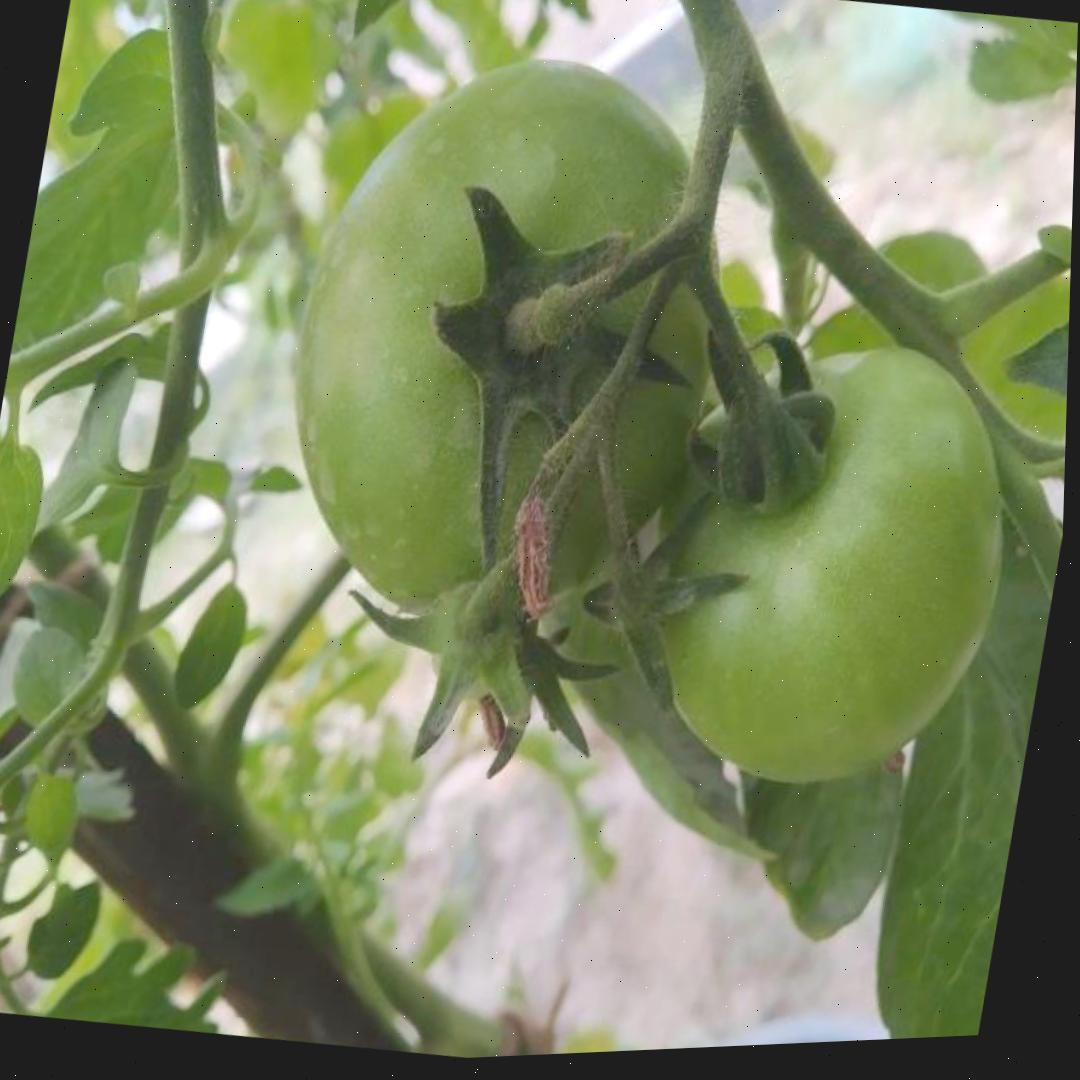mentah: (252, 19, 765, 656), (613, 309, 1043, 818)
